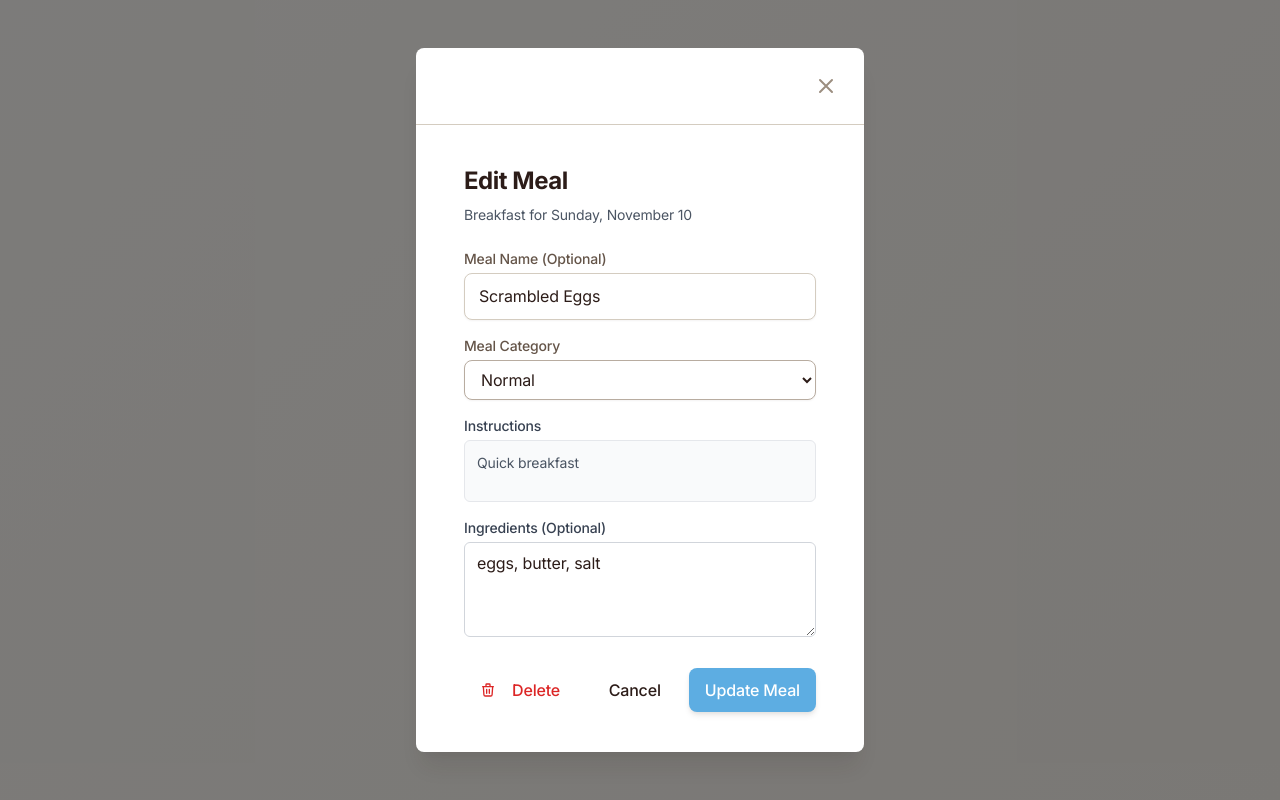
Test: AddMealModal - Delete Functionality › Edit Mode (meal provided) › handles delete errors gracefully
The image size is (1280, 800).
Click the button "Delete" at {"x": 520, "y": 690}, box [464,668,576,712]
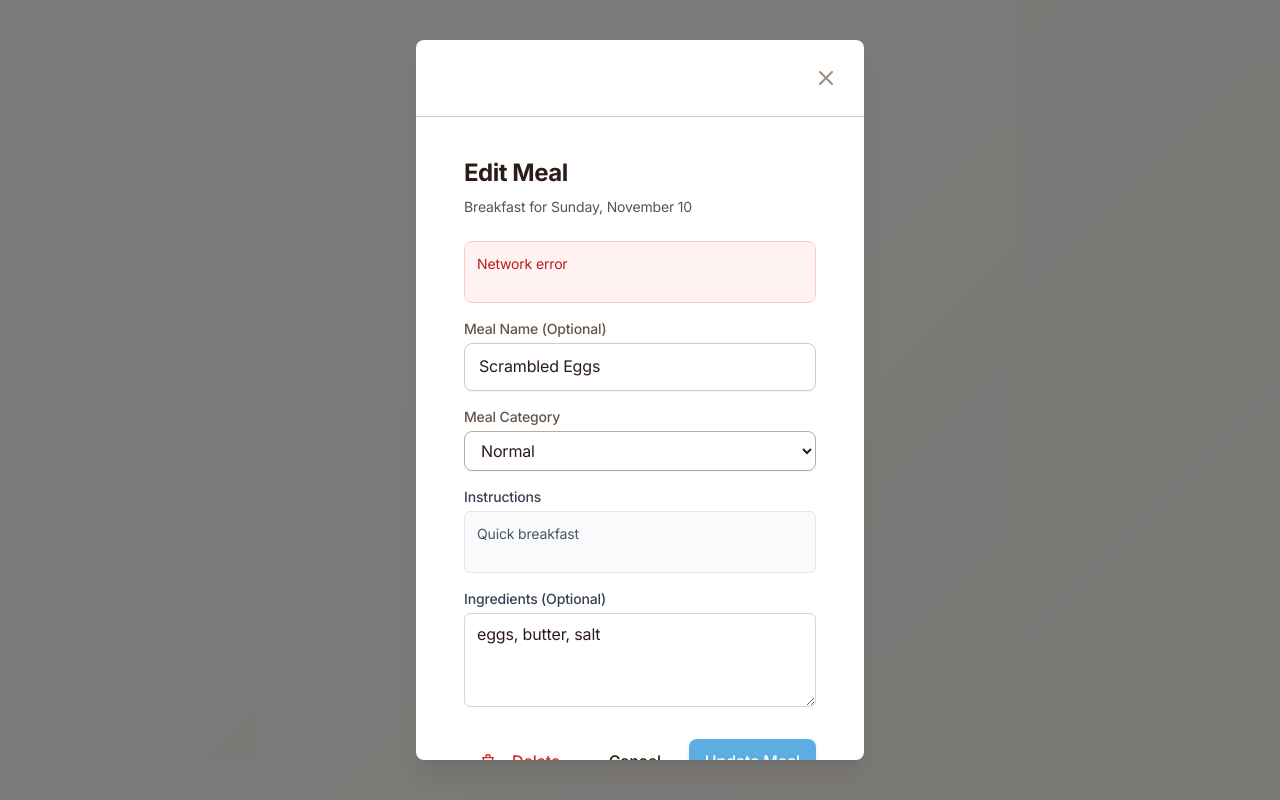
Expected: the text "Network error" is shown, [477,255,568,272]
